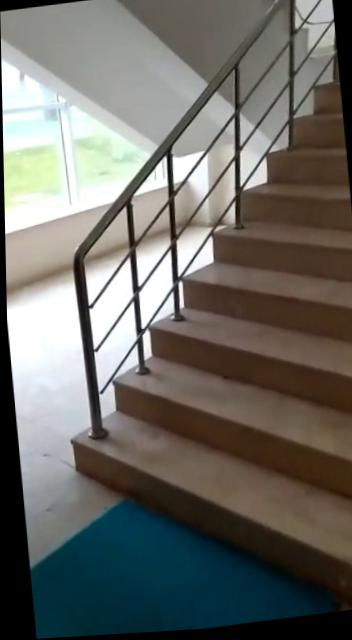Bench: (20, 11, 352, 639)
